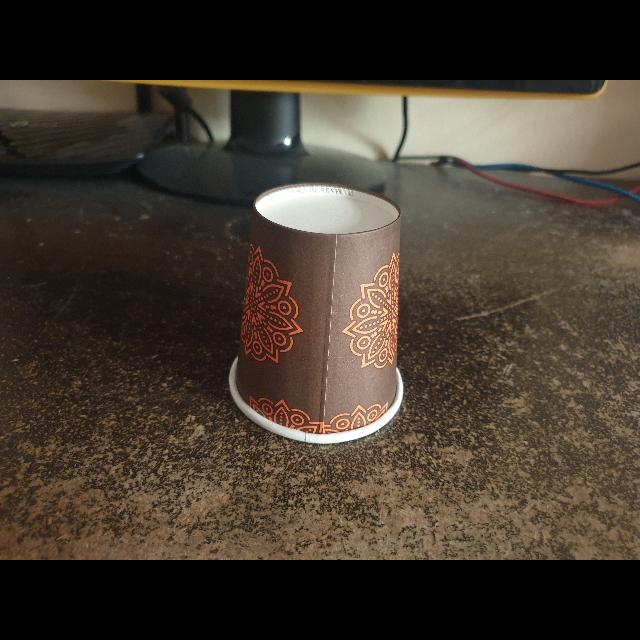trash: (226, 184, 418, 450)
